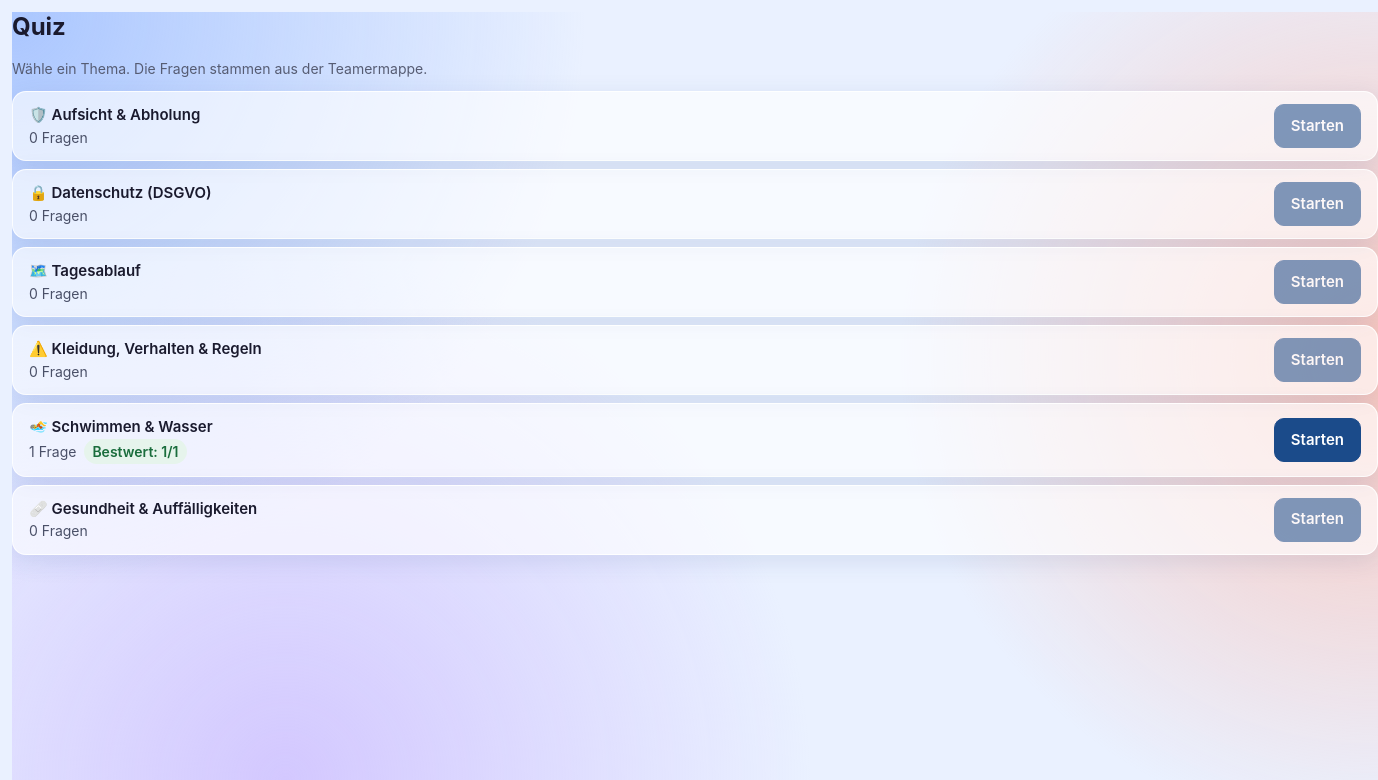
Scenario: Quiz: Ablauf › kein neuer Bestwert: nichts Besonderes angezeigt
Click the button with aria-label "Quiz starten: Schwimmen & Wasser".
click(1317, 440)  # box [1274, 418, 1361, 462]
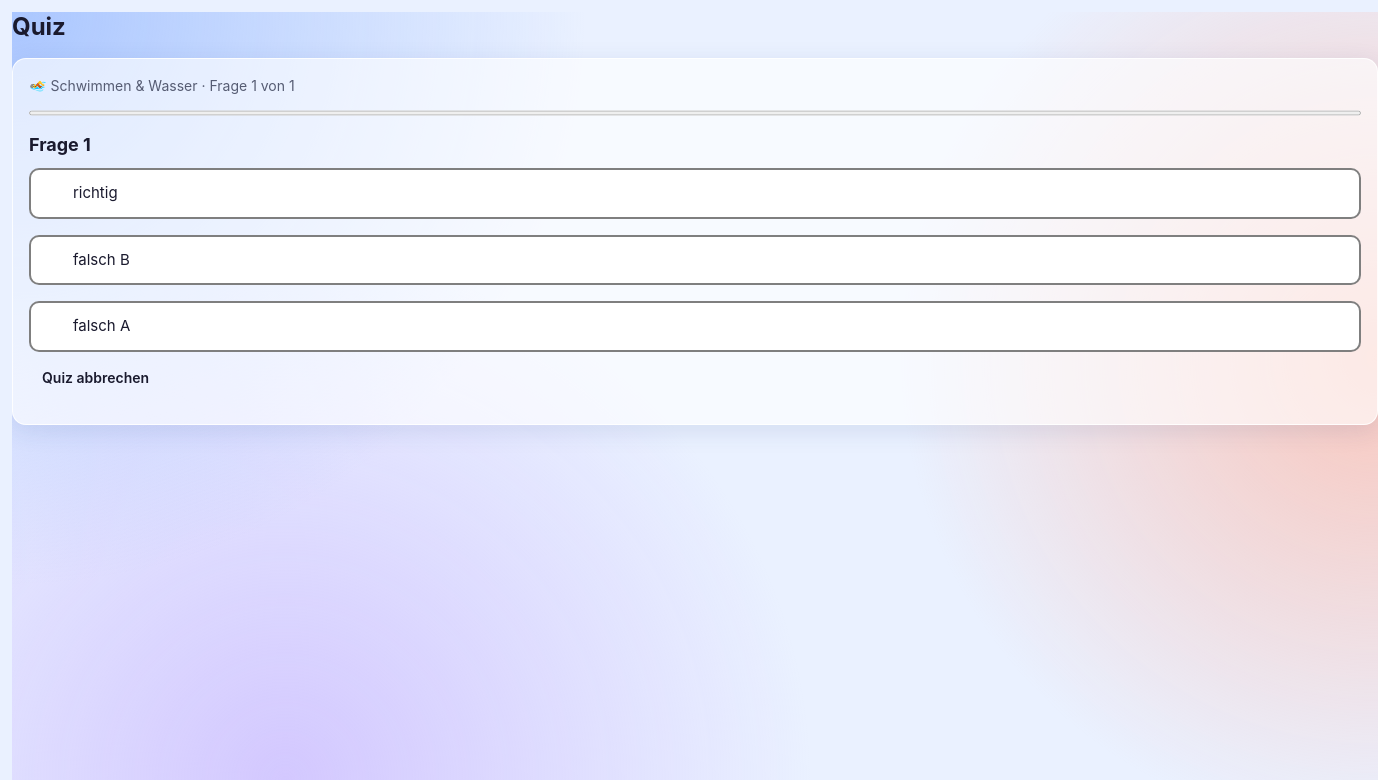
Click the button "richtig".
click(95, 192)  # box [29, 168, 1361, 218]
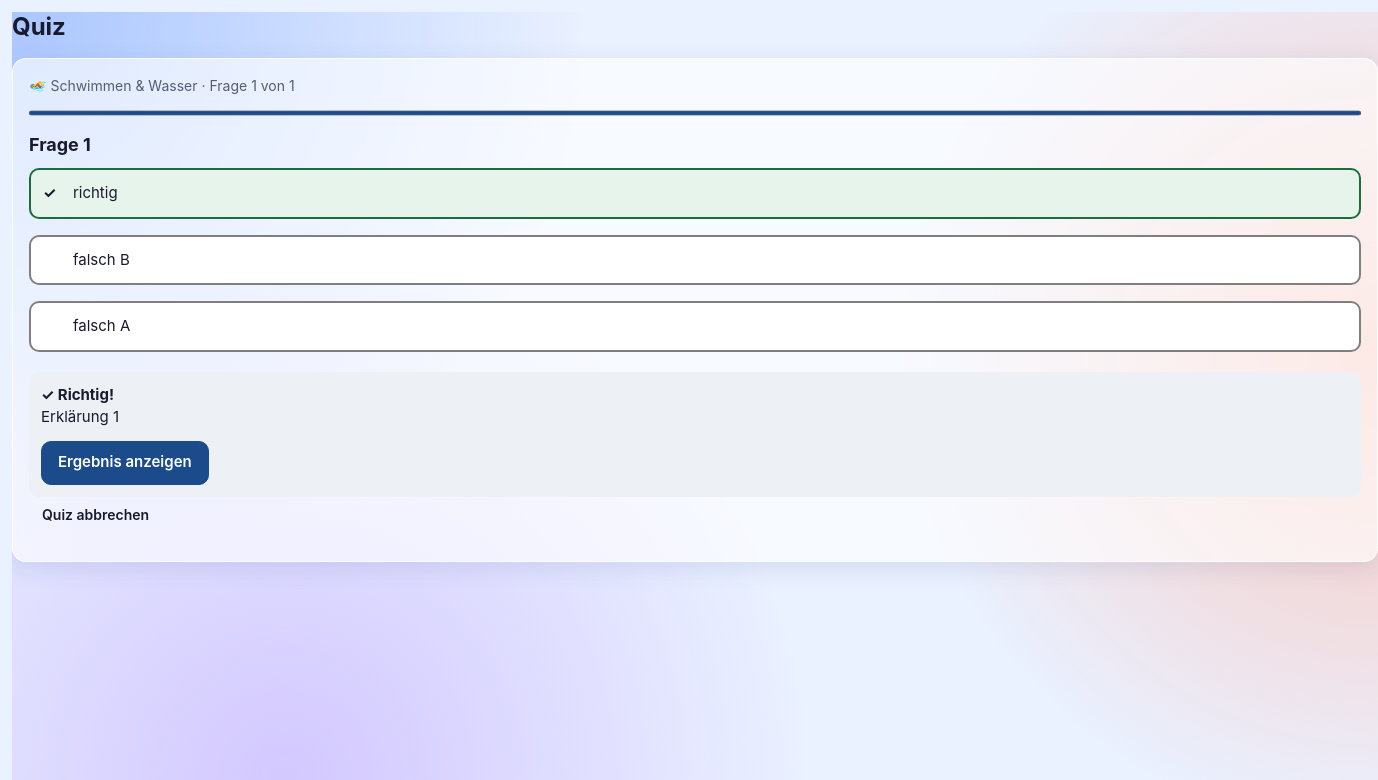
Click the button "Ergebnis anzeigen".
click(125, 462)  # box [41, 440, 209, 484]
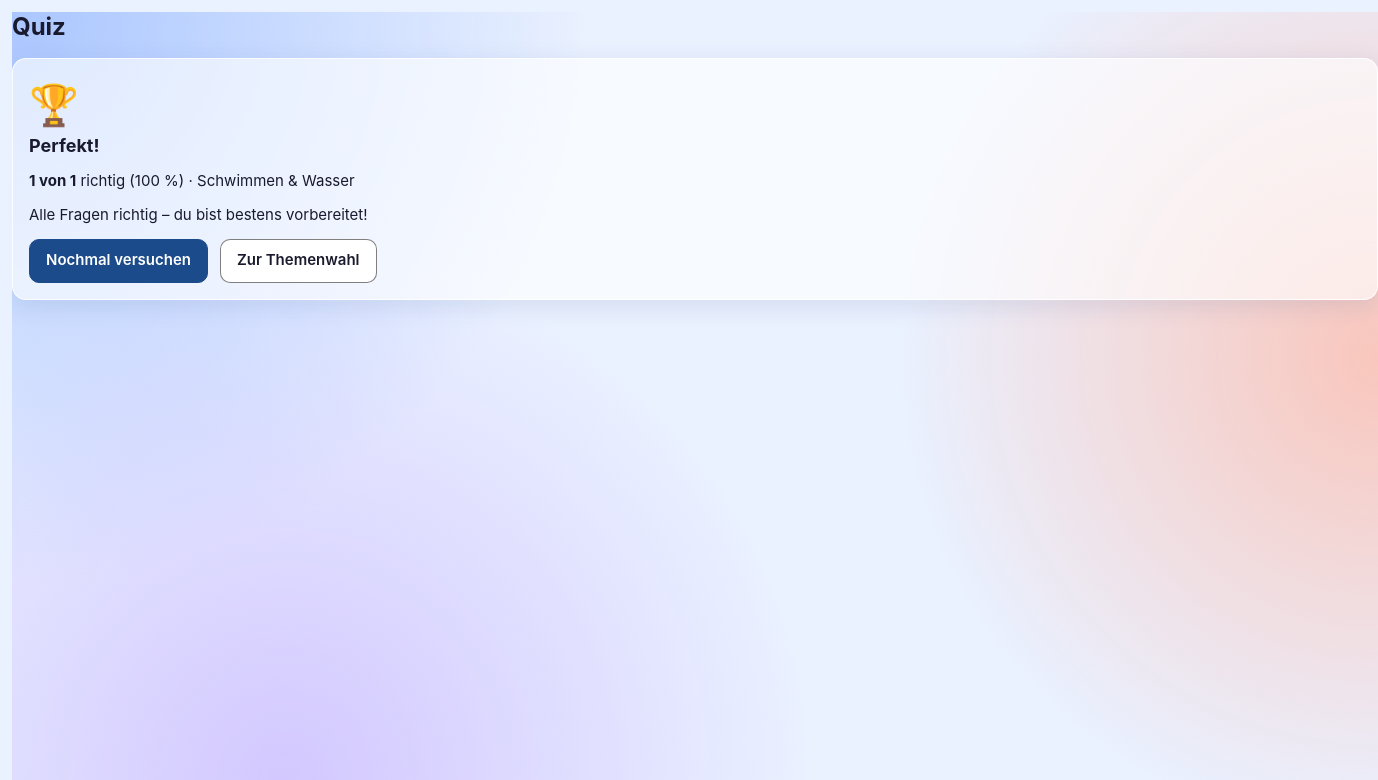
Result: the heading "Perfekt!" is shown at [29, 135, 100, 156]
